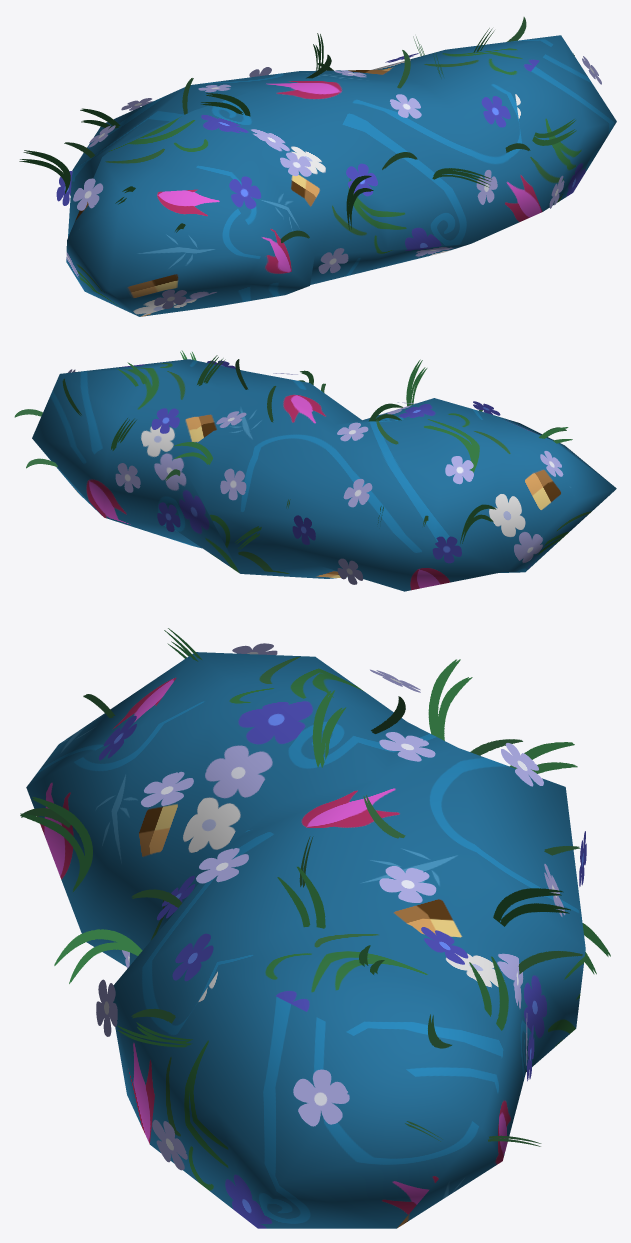
File: bush2.obj
3 views of the same model, one above another, from view 1: azimuth 30°, elevation 25°; view 2: azimuth 150°, elevation 25°; view 3: azimuth 270°, elevation 25° (orthographic). The views are drawn at different scales.
Visible parts, largest first — view 1: bush2_Icosphere.004; view 2: bush2_Icosphere.004; view 3: bush2_Icosphere.004.
Part boxes in pixels (x1=…): bush2_Icosphere.004: x1=19, y1=17, x2=616, y2=316; bush2_Icosphere.004: x1=14, y1=350, x2=616, y2=591; bush2_Icosphere.004: x1=20, y1=628, x2=610, y2=1228.
Size of the model in its own units: 8.11 by 2.86 by 4.57.
